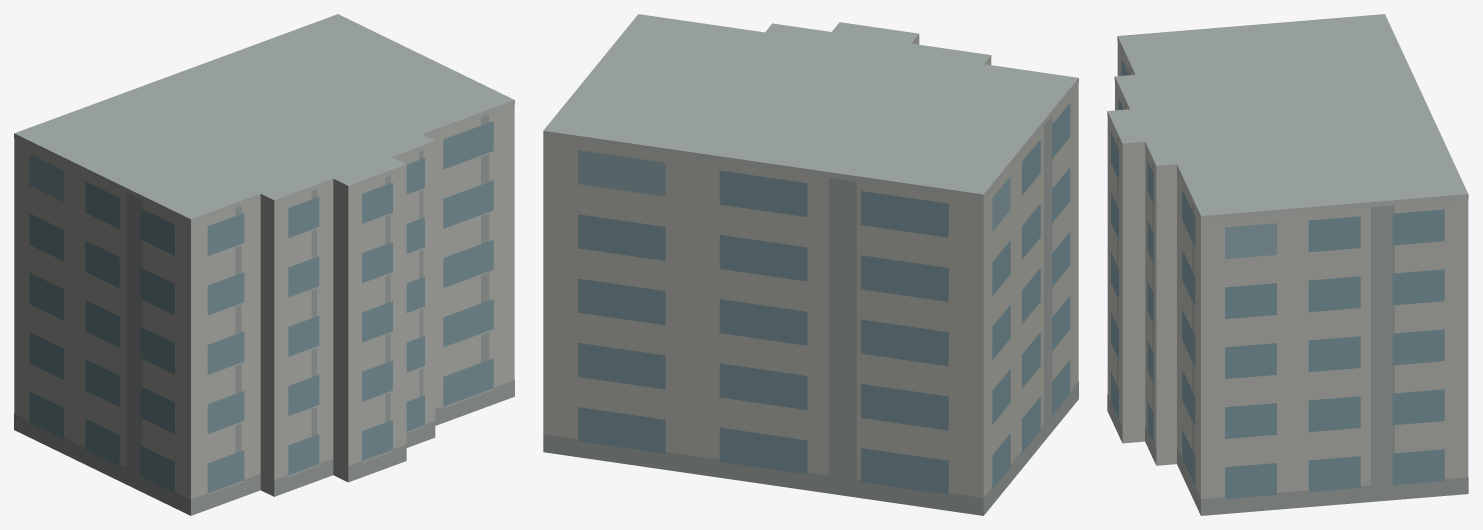
File: survey-upis-32766122.glb
3 renders of one model, left to right at view 1: azimuth 30°, elevation 25°; view 2: azimuth 150°, elevation 25°; view 3: azimuth 270°, elevation 25°, orthographic. The views are drawn at different scales.
Parts seen in each view (by area): view 1: survey-upis-32766122.tmp; view 2: survey-upis-32766122.tmp; view 3: survey-upis-32766122.tmp.
Part boxes in pixels (box(x1,y1,x2,y2)): survey-upis-32766122.tmp: box(14, 14, 514, 515); survey-upis-32766122.tmp: box(543, 14, 1078, 515); survey-upis-32766122.tmp: box(1107, 14, 1468, 515).
Bounding box in the file's own units: 20.97 × 14.5 × 15.83.
